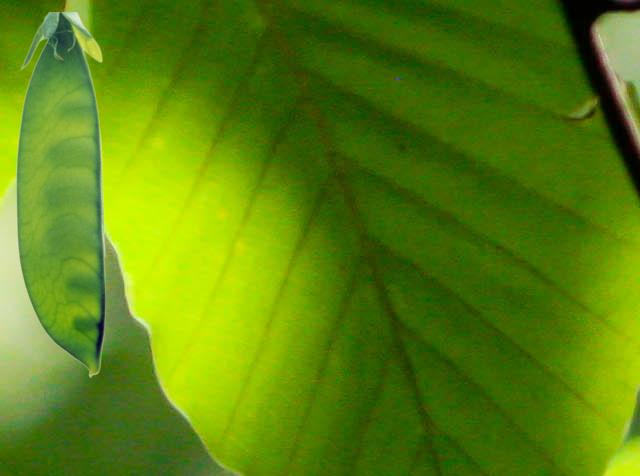pea: (15, 12, 104, 376)
